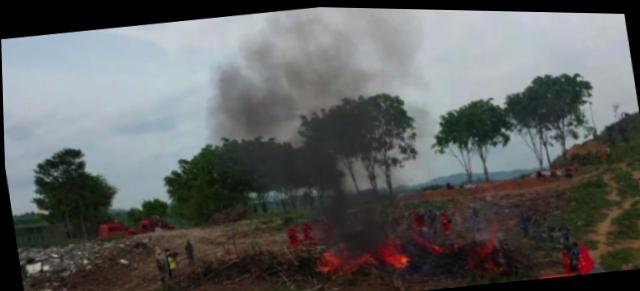fire: (414, 217, 504, 274), (312, 230, 412, 278)
